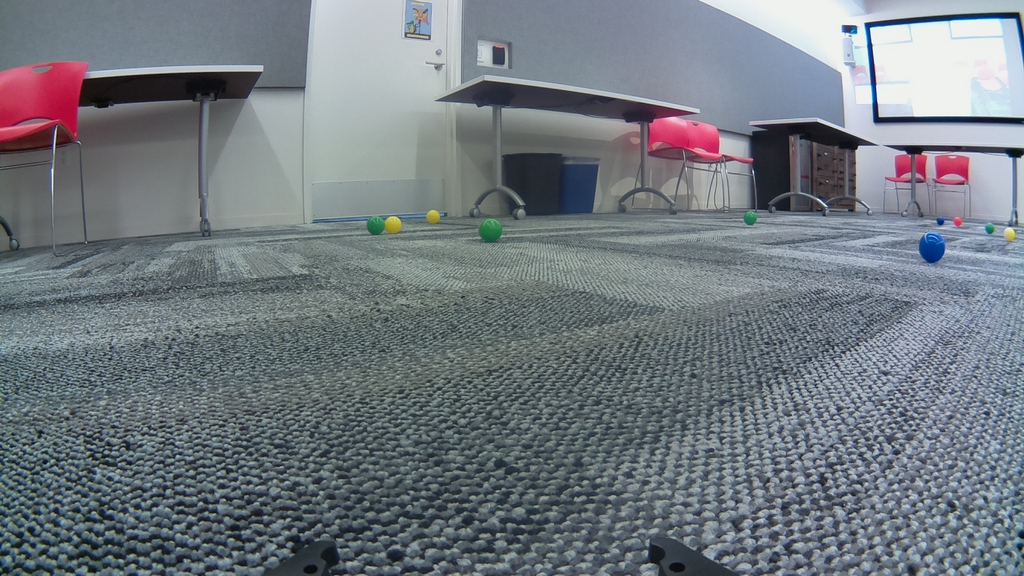ball: (918, 234, 944, 264)
